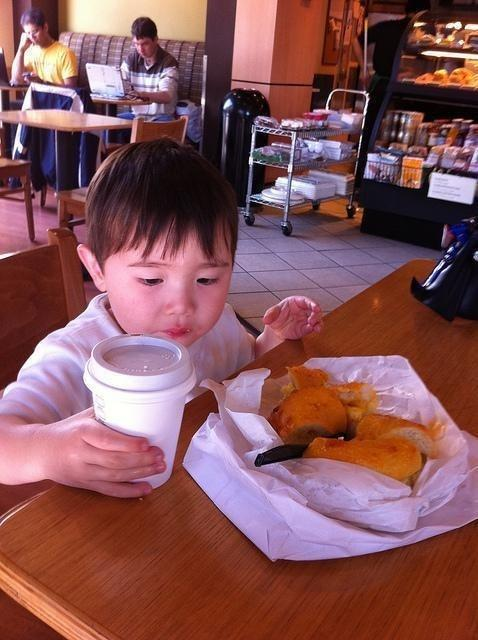cup-disposable: (80, 336, 202, 493)
